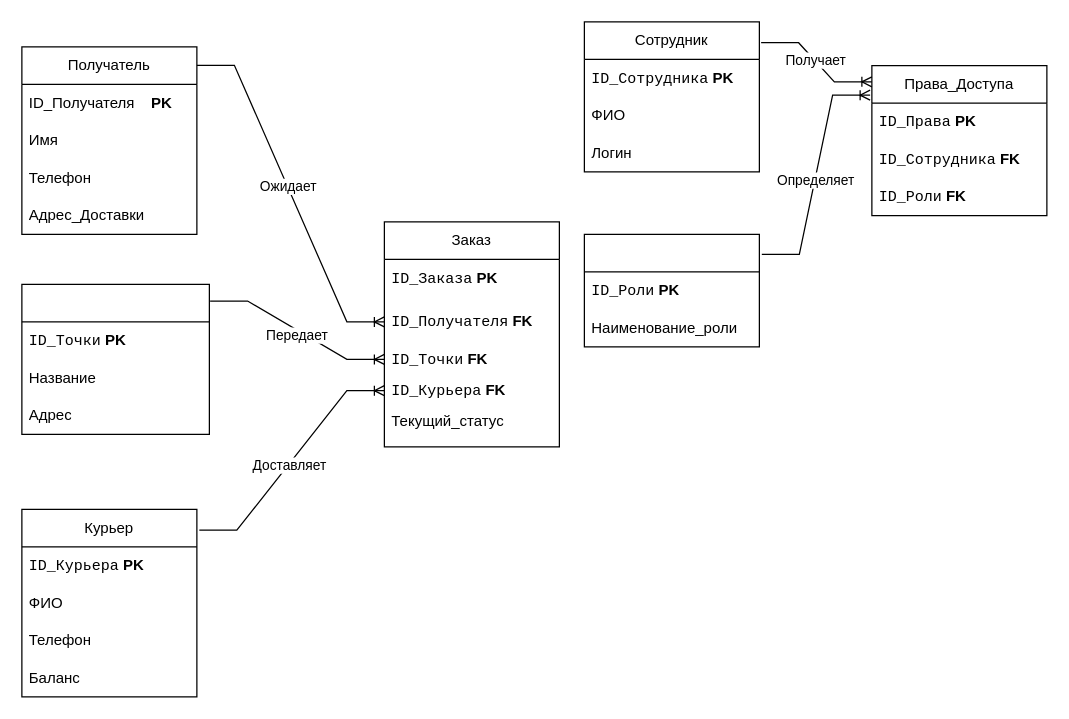
The diagram is 1069 pixels wide and 719 high, and some of its shapes have lost their labels. Each missing label, with the box of its shape:
Роль: (583, 233, 759, 347)
Точка_Комплектации: (21, 283, 209, 434)
